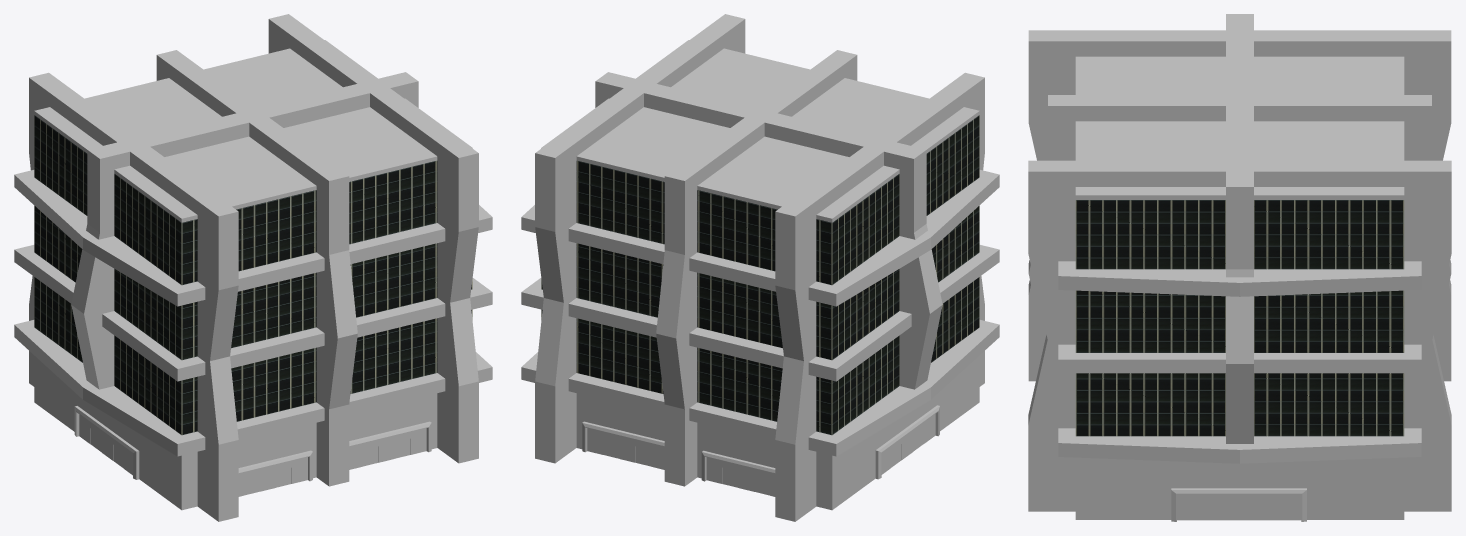
3 views of the same model, side by side, from view 1: azimuth 30°, elevation 25°; view 2: azimuth 150°, elevation 25°; view 3: azimuth 270°, elevation 25° (orthographic). The views are drawn at different scales.
Visible parts, largest first — view 1: BC-068; view 2: BC-068; view 3: BC-068.
Boxes of the visible parts, x1=… form: BC-068: x1=14, y1=14, x2=492, y2=521; BC-068: x1=521, y1=14, x2=999, y2=521; BC-068: x1=1028, y1=14, x2=1451, y2=521.
Size of what is drawn, in the model's own units: 58.68 by 48.89 by 55.13.
